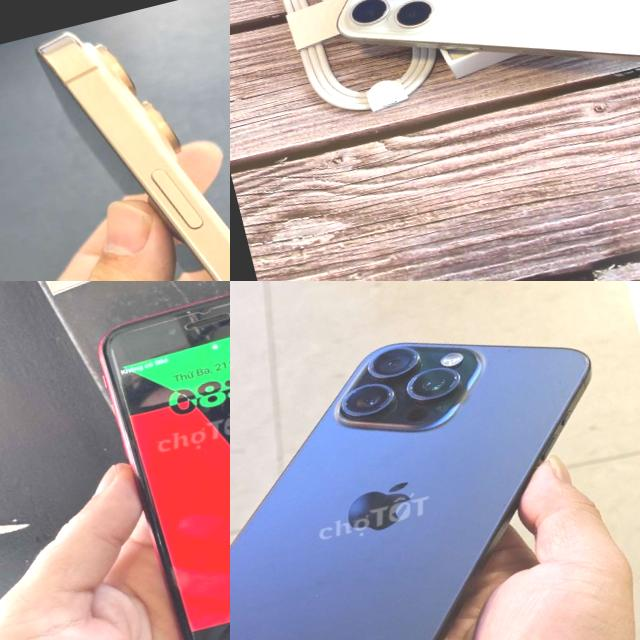gen_15: (230, 285, 640, 640), (309, 0, 640, 145)
gen_16: (37, 32, 230, 281)
gen_7_8: (56, 281, 230, 640)
scratch: (180, 306, 194, 318)
